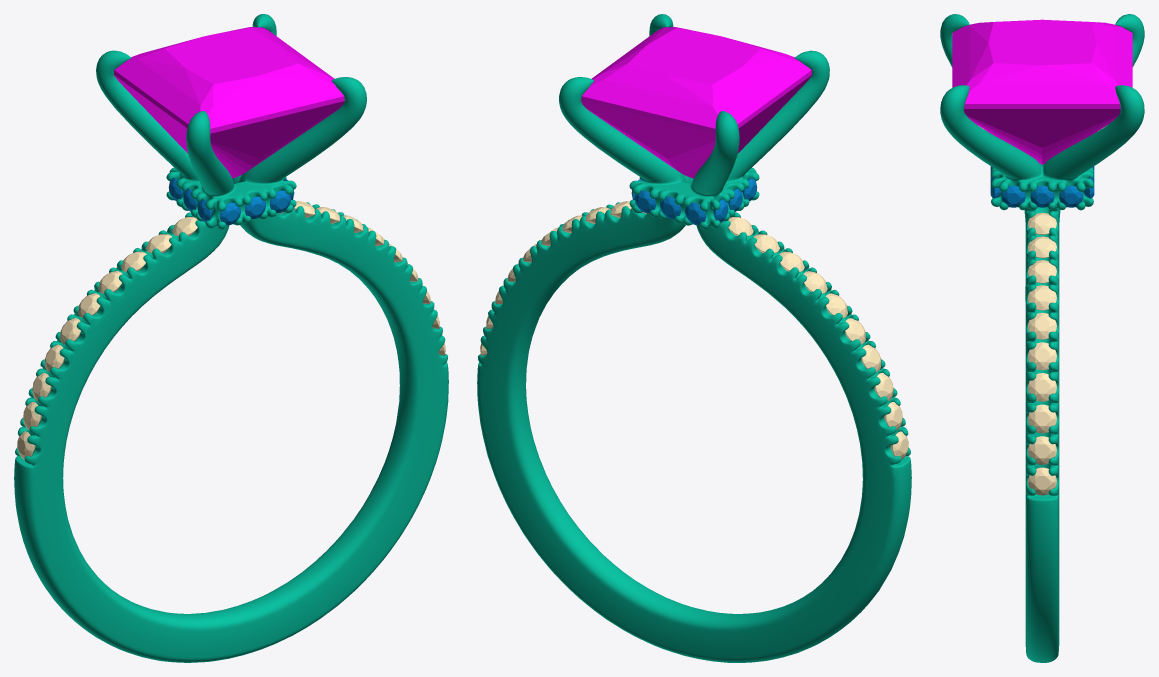
Rendered from BE1D1320_PR_200ct_RENDER.glb.
3 renders of one model, left to right at view 1: azimuth 30°, elevation 25°; view 2: azimuth 150°, elevation 25°; view 3: azimuth 270°, elevation 25°, orthographic.
Parts seen in each view (by area): view 1: Metal 01, CS_Diamond_Princess; view 2: Metal 01, CS_Diamond_Princess; view 3: Metal 01, CS_Diamond_Princess, Diamond_Round_Gem_SH.017, Diamond_Round_Gem_SH.016, Diamond_Round_Gem_SH.018, Diamond_Round_Gem_SH.015, Diamond_Round_Gem_SH.019, Diamond_Round_Gem_SH.014, Diamond_Round_Gem_SH.013, Diamond_Round_Gem_SH.012, Diamond_Round_Gem_SH.010, Diamond_Round_Gem_SH.011 (+3 smaller).
Boxes of the visible parts, x1=… form: Metal 01: x1=14, y1=14, x2=448, y2=662; CS_Diamond_Princess: x1=113, y1=27, x2=344, y2=178; Metal 01: x1=477, y1=14, x2=911, y2=662; CS_Diamond_Princess: x1=581, y1=27, x2=812, y2=178; Metal 01: x1=940, y1=14, x2=1144, y2=662; CS_Diamond_Princess: x1=952, y1=19, x2=1132, y2=164; Diamond_Round_Gem_SH.017: x1=1028, y1=404, x2=1056, y2=433; Diamond_Round_Gem_SH.016: x1=1028, y1=373, x2=1056, y2=401; Diamond_Round_Gem_SH.018: x1=1028, y1=436, x2=1056, y2=464; Diamond_Round_Gem_SH.015: x1=1028, y1=342, x2=1056, y2=370; Diamond_Round_Gem_SH.019: x1=1028, y1=467, x2=1056, y2=495; Diamond_Round_Gem_SH.014: x1=1028, y1=312, x2=1056, y2=339; Diamond_Round_Gem_SH.013: x1=1028, y1=285, x2=1056, y2=310; Diamond_Round_Gem_SH.012: x1=1028, y1=260, x2=1056, y2=283; Diamond_Round_Gem_SH.010: x1=1028, y1=212, x2=1056, y2=234; Diamond_Round_Gem_SH.011: x1=1028, y1=236, x2=1056, y2=258.
Size of the model in its own units: 20.5 by 27.44 by 8.51.
